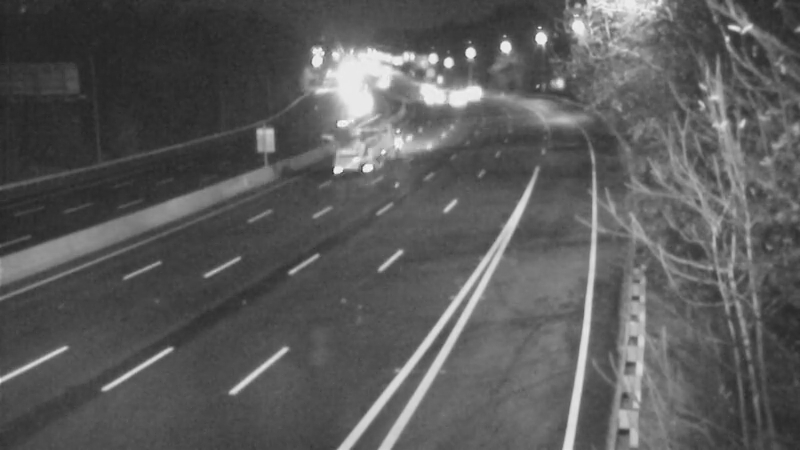vehicle: (424, 66, 474, 116), (409, 71, 459, 121), (450, 66, 500, 116), (326, 124, 376, 174)
